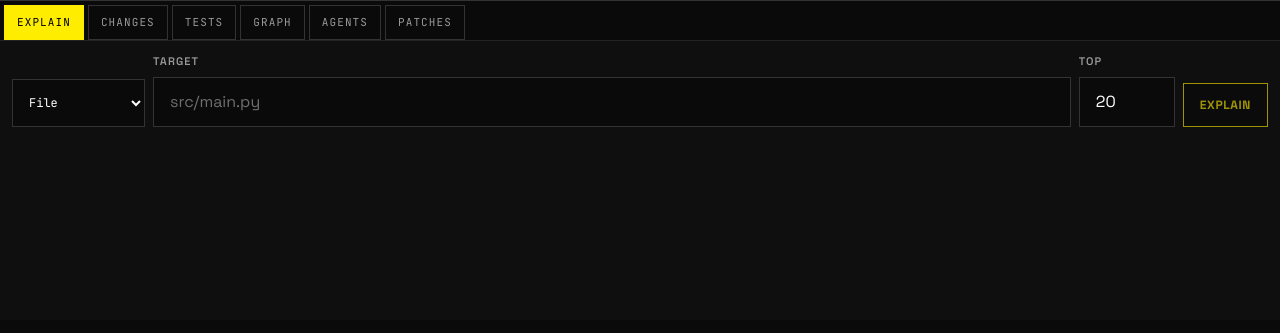
Test case: DeveloperPanel (developer intelligence) › explains a file against the real backend
This screenshot has width=1280, height=333.
Type "src/budget/parse_amount.py" into the field labelled "Target" at (612, 102), box [153,76,1071,126]
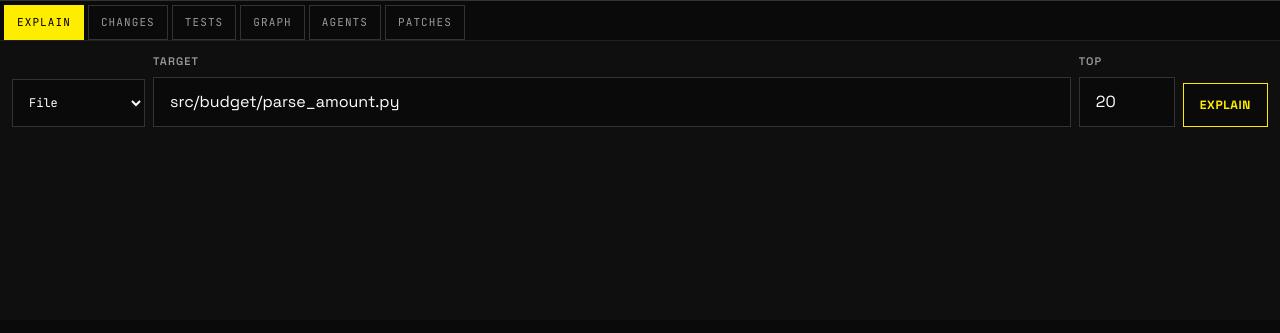
Click the button "Explain" at (1225, 104), box [1183,82,1268,126]
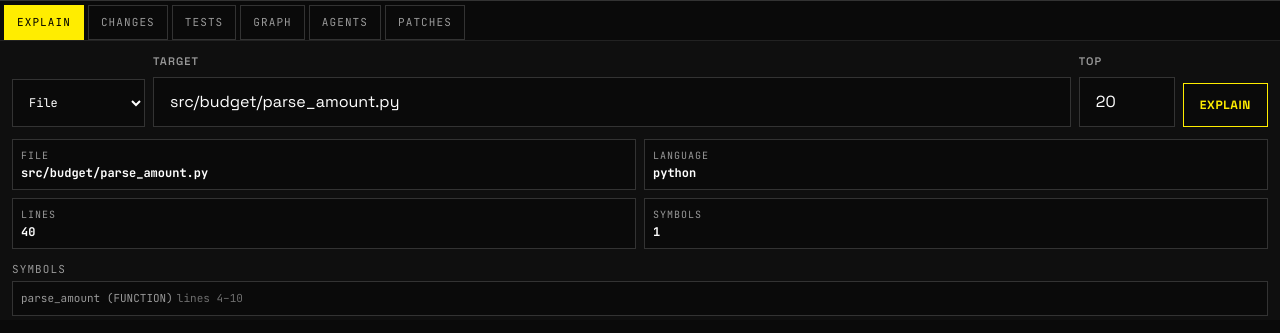
Expected: the text "src/budget/parse_amount.py" is shown, [21,164,208,180]
Expected: the text "python" is shown, [653,164,696,180]
Expected: the list item "parse_amount (FUNCTION)lines 4–10" is shown, [12,281,1268,316]
